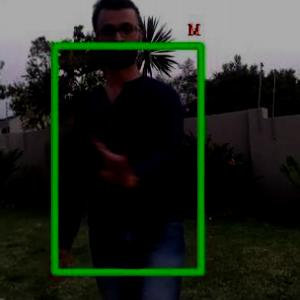takeoff-hand: (82, 126, 135, 184)
